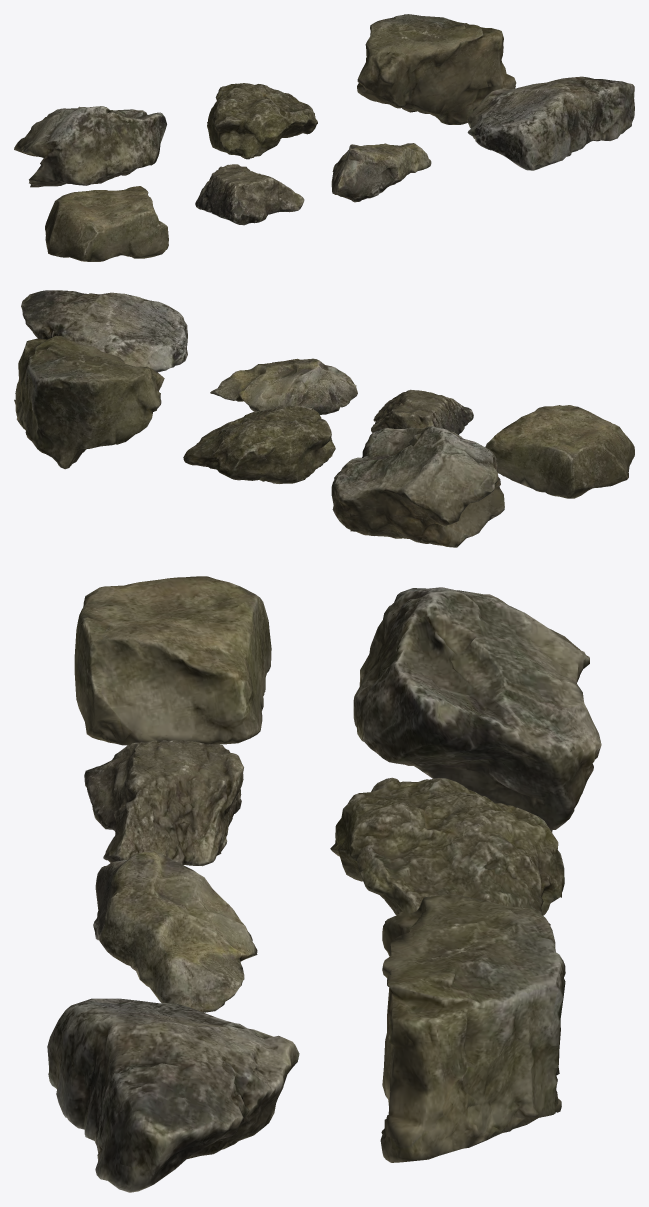
Rendered from rock_moss_set_02.gltf.
3 renders of one model, top to bottom at view 1: azimuth 30°, elevation 25°; view 2: azimuth 150°, elevation 25°; view 3: azimuth 270°, elevation 25°, orthographic. The views are drawn at different scales.
Visible parts, largest first — view 1: rock_moss_set_02_rock13, rock_moss_set_02_rock10, rock_moss_set_02_rock11, rock_moss_set_02_rock07, rock_moss_set_02_rock12, rock_moss_set_02_rock08, rock_moss_set_02_rock09; view 2: rock_moss_set_02_rock11, rock_moss_set_02_rock13, rock_moss_set_02_rock07, rock_moss_set_02_rock10, rock_moss_set_02_rock12, rock_moss_set_02_rock09, rock_moss_set_02_rock08; view 3: rock_moss_set_02_rock13, rock_moss_set_02_rock11, rock_moss_set_02_rock10, rock_moss_set_02_rock07, rock_moss_set_02_rock12, rock_moss_set_02_rock09, rock_moss_set_02_rock08.
Part boxes in pixels (box(x1,y1,x2,y2)): rock_moss_set_02_rock13: box(357, 14, 516, 124); rock_moss_set_02_rock10: box(467, 76, 634, 170); rock_moss_set_02_rock11: box(14, 106, 166, 187); rock_moss_set_02_rock07: box(45, 186, 168, 261); rock_moss_set_02_rock12: box(207, 83, 317, 159); rock_moss_set_02_rock08: box(195, 164, 304, 225); rock_moss_set_02_rock09: box(331, 143, 431, 202); rock_moss_set_02_rock11: box(331, 426, 504, 547); rock_moss_set_02_rock13: box(14, 336, 164, 469); rock_moss_set_02_rock07: box(485, 405, 634, 498); rock_moss_set_02_rock10: box(21, 290, 187, 372); rock_moss_set_02_rock12: box(183, 405, 335, 483); rock_moss_set_02_rock09: box(210, 358, 357, 414); rock_moss_set_02_rock08: box(371, 389, 473, 434); rock_moss_set_02_rock13: box(380, 894, 565, 1162); rock_moss_set_02_rock11: box(353, 587, 601, 832); rock_moss_set_02_rock10: box(47, 998, 299, 1192); rock_moss_set_02_rock07: box(74, 576, 271, 745); rock_moss_set_02_rock12: box(330, 777, 564, 925); rock_moss_set_02_rock09: box(93, 850, 257, 1012); rock_moss_set_02_rock08: box(84, 740, 243, 866).
Bounding box in the file's own units: 8.28 × 1.37 × 3.41.
Materials: 1 (1 with a texture image).
